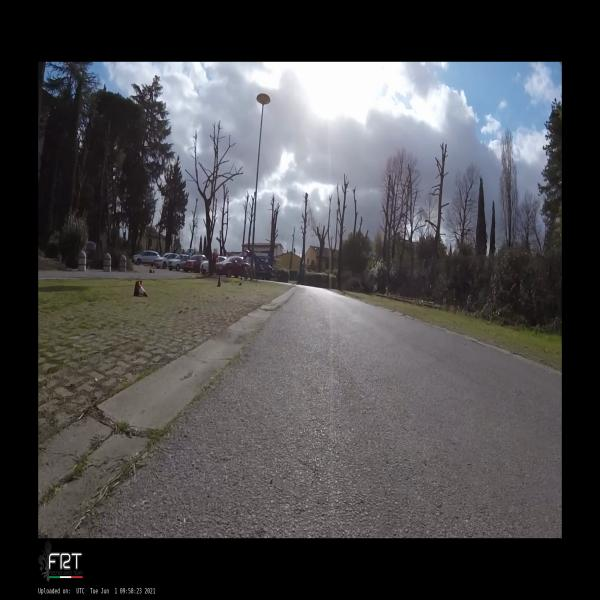orange_cone: (134, 280, 148, 298), (239, 276, 242, 286)
unknown_cone: (216, 276, 222, 287)
